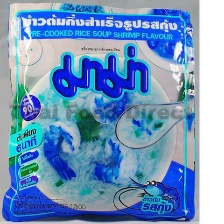snack: (0, 0, 198, 223)
